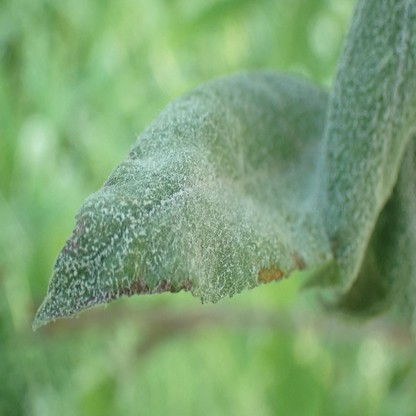powdery_mildew: (34, 0, 416, 325)
